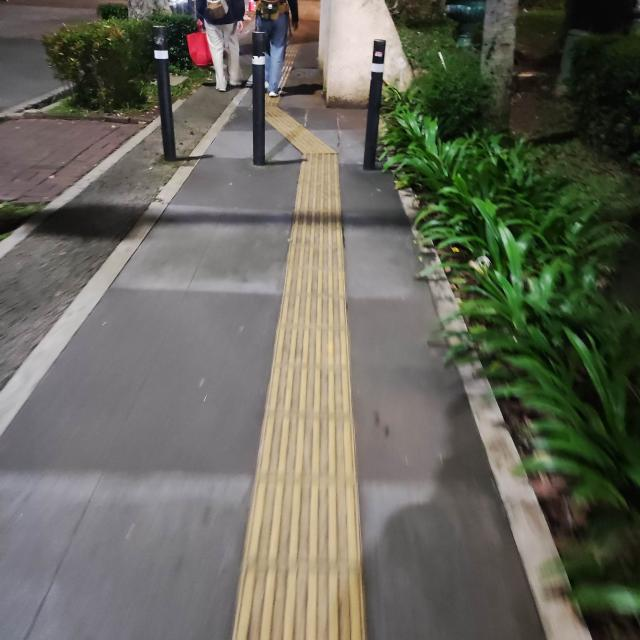lurus: (252, 138, 358, 640)
